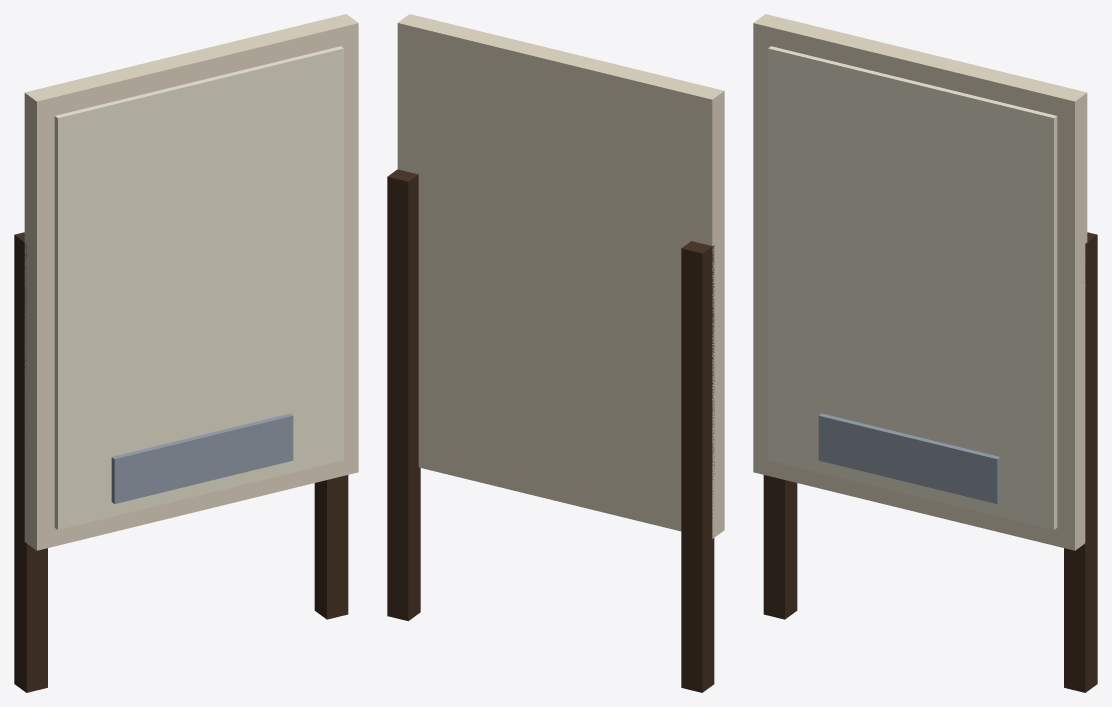
File: chalk_board.glb
The picture shows the model from 3 angles, left to right: view 1: azimuth 30°, elevation 25°; view 2: azimuth 150°, elevation 25°; view 3: azimuth 330°, elevation 25°; orthographic projection. The views are drawn at different scales.
Visible parts, largest first — view 1: chalk_board; view 2: chalk_board; view 3: chalk_board.
Part boxes in pixels (left/top/right/bottom): chalk_board: left=14, top=14, right=358, bottom=692; chalk_board: left=387, top=14, right=724, bottom=692; chalk_board: left=753, top=14, right=1097, bottom=692.
Size of the model in its own units: 0.9 by 1.6 by 0.14.
